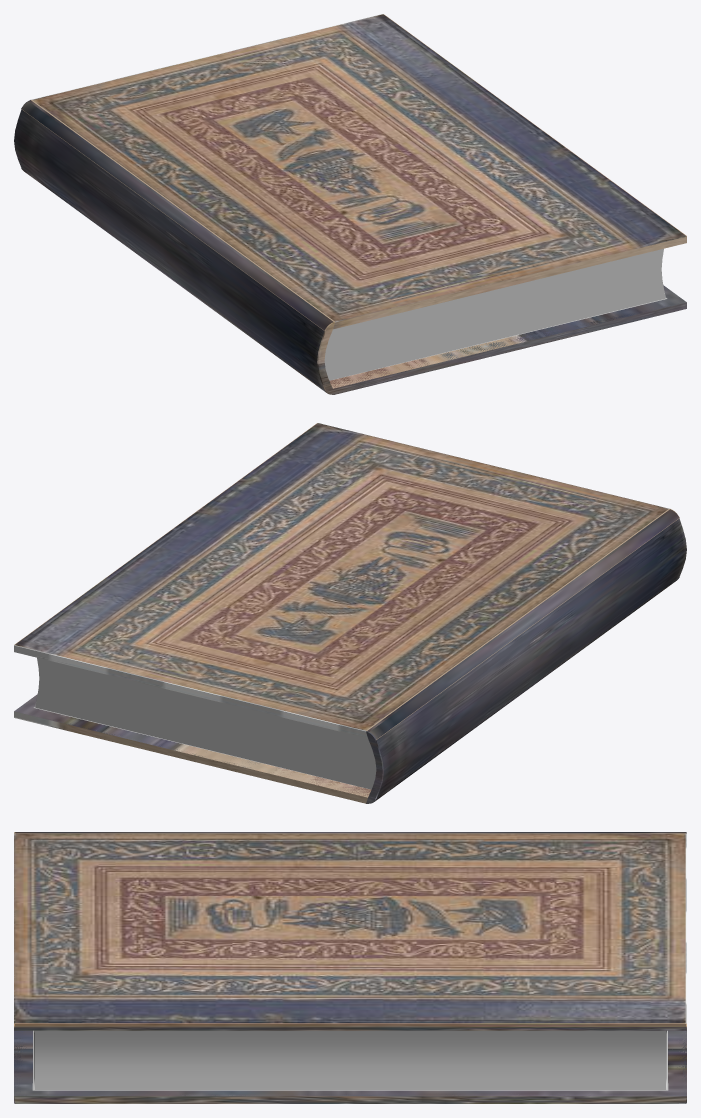
Rendered from Livro.fbx.
The picture shows the model from 3 angles, top to bottom: view 1: azimuth 30°, elevation 25°; view 2: azimuth 150°, elevation 25°; view 3: azimuth 270°, elevation 25°; orthographic projection. The views are drawn at different scales.
Visible parts, largest first — view 1: Cube; view 2: Cube; view 3: Cube.
Boxes of the visible parts, left/top/right/bottom form: Cube: left=14, top=14, right=686, bottom=394; Cube: left=14, top=423, right=686, bottom=803; Cube: left=14, top=832, right=686, bottom=1103.
Bounding box in the file's own units: 167 × 31.32 × 238.
